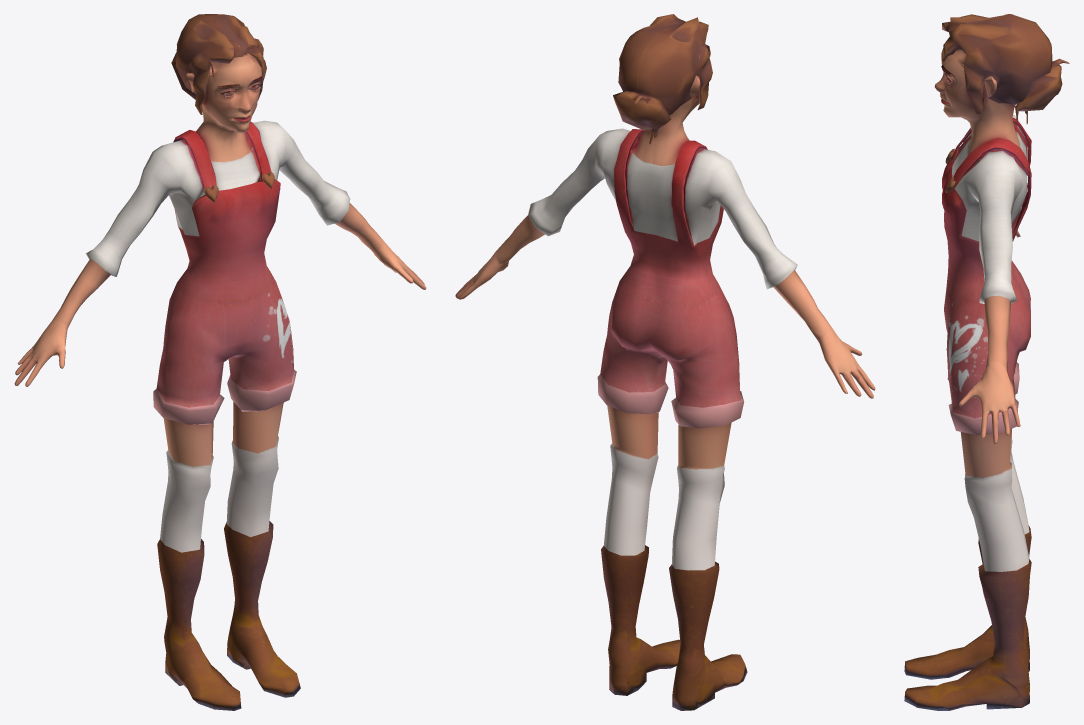
3 renders of one model, left to right at view 1: azimuth 30°, elevation 25°; view 2: azimuth 150°, elevation 25°; view 3: azimuth 270°, elevation 25°, orthographic. The views are drawn at different scales.
Parts seen in each view (by area): view 1: Character_Low; view 2: Character_Low; view 3: Character_Low.
Boxes of the visible parts, x1=… form: Character_Low: x1=14, y1=14, x2=426, y2=710; Character_Low: x1=455, y1=14, x2=875, y2=710; Character_Low: x1=904, y1=14, x2=1069, y2=710.
Size of the model in its own units: 1.32 by 2 by 0.4484.
Materials: 1 (1 with a texture image).
